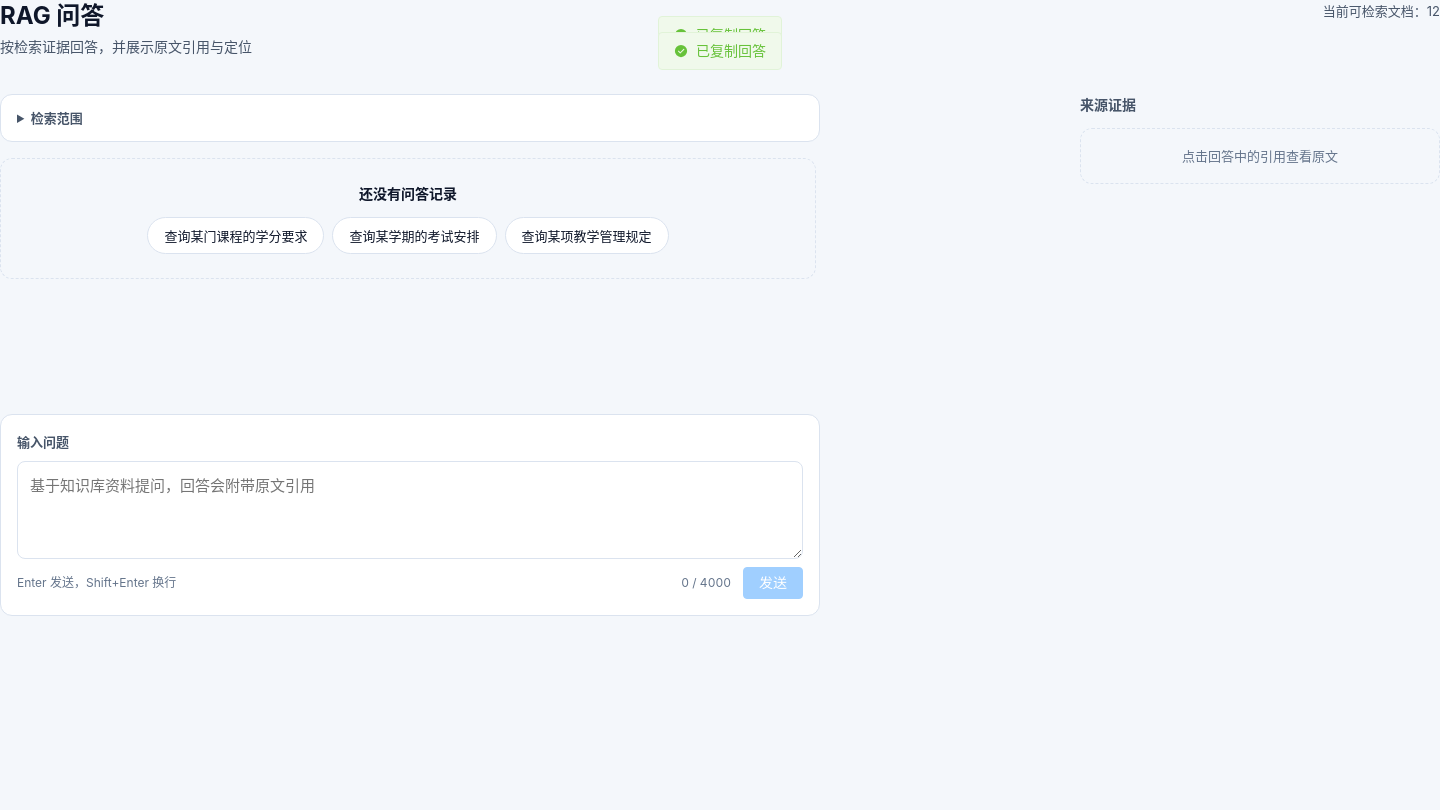
Test: ChatView answering flow › opens the source drawer only when the user asks for the original text
Type "问题" into the text box labelled "输入问题". click: (410, 510)
box: [17,461,803,559]
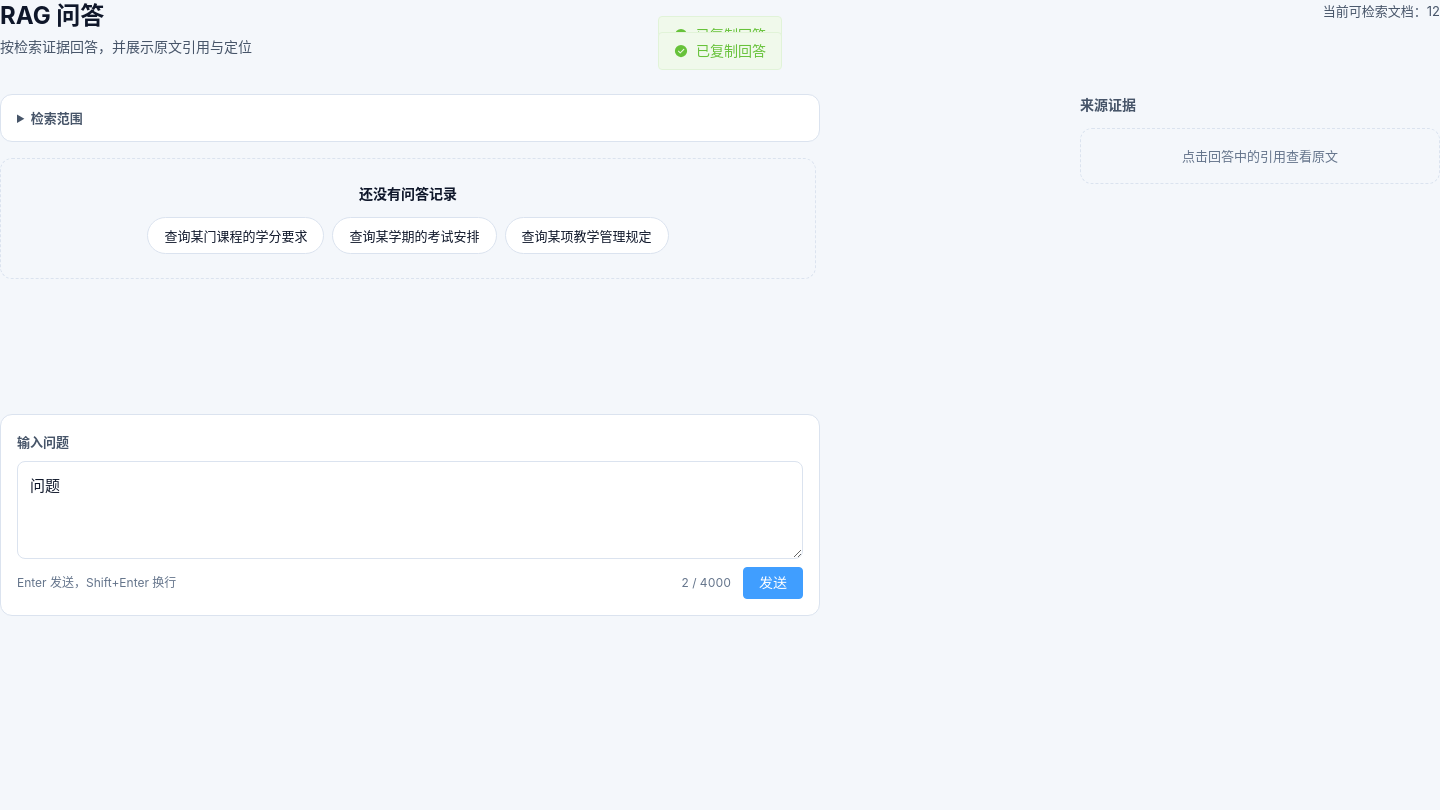
Press Enter in the text box labelled "输入问题", box [17,461,803,559]
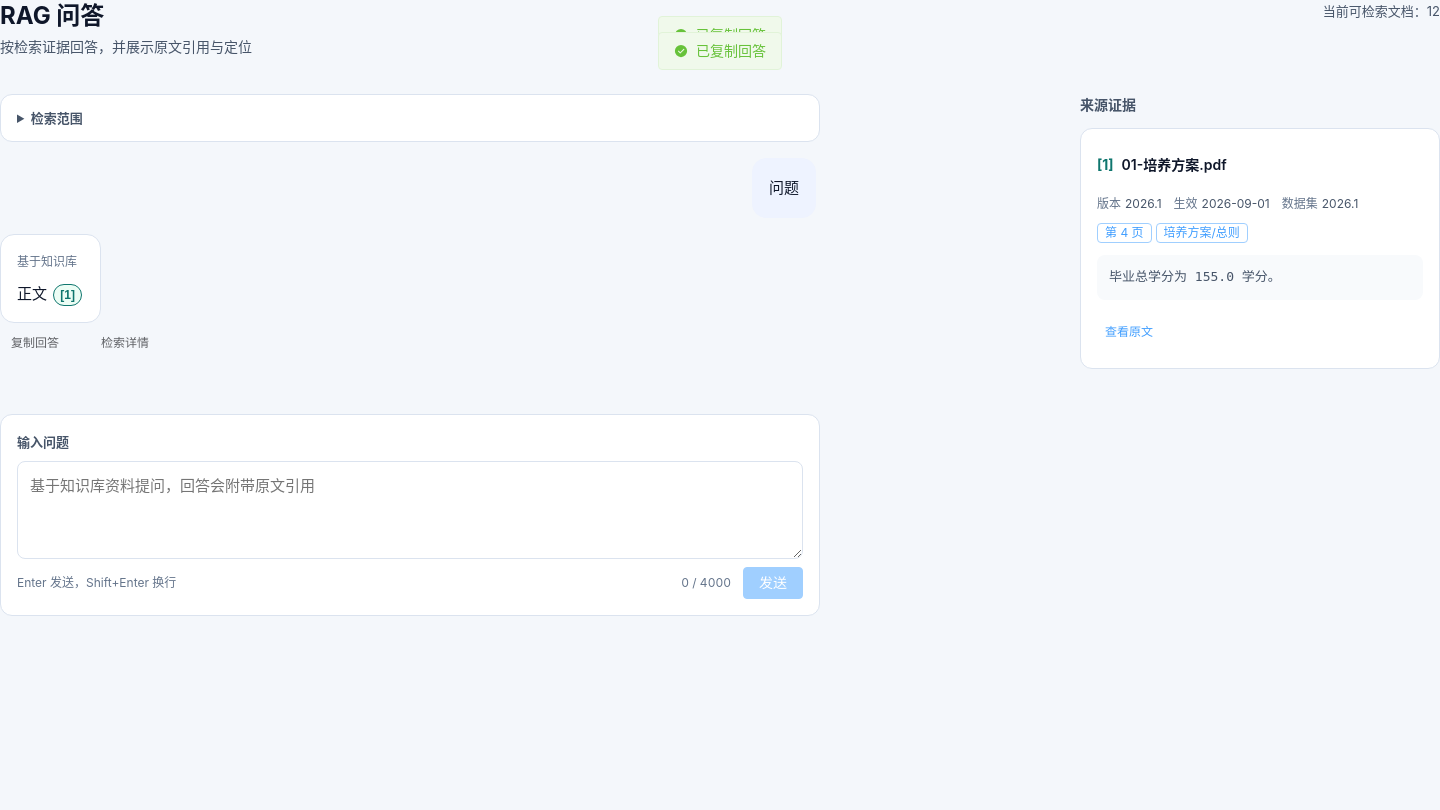
Click the button with class "ep-evidence-card__open". click: (1129, 332)
box: [1097,312,1161,352]
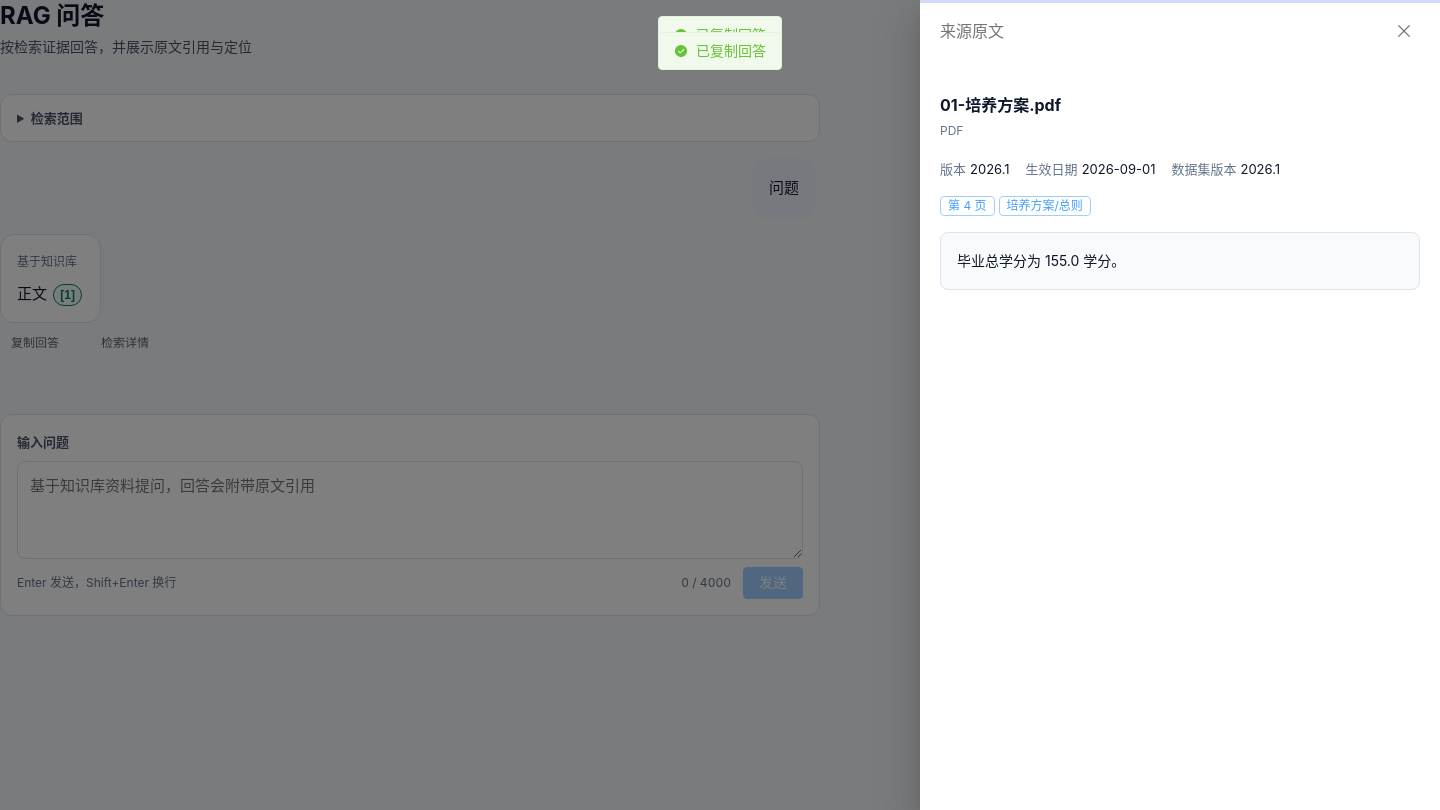
Expected: the text with class "ep-source__text" reads "毕业总学分为 155.0 学分。", [957,252,1125,269]
